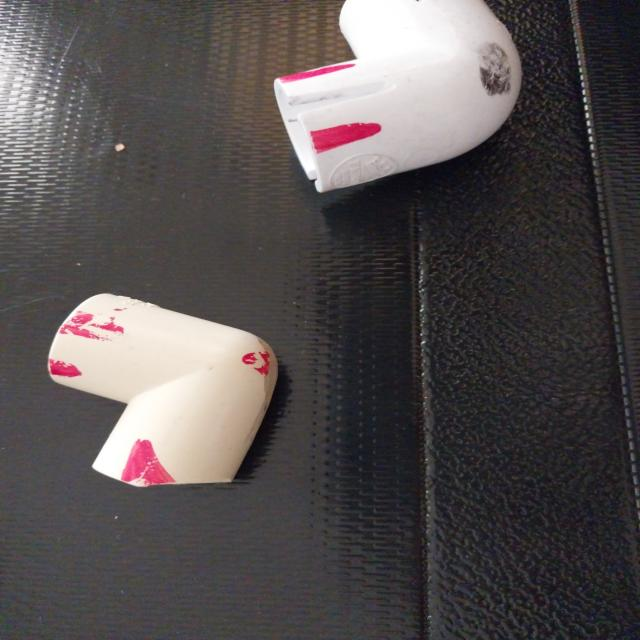Defective: (456, 36, 520, 98), (118, 433, 182, 492), (295, 118, 383, 148), (67, 308, 129, 343), (38, 356, 105, 382), (285, 66, 368, 83), (249, 350, 269, 374)
L Joint: (273, 0, 523, 196), (47, 294, 279, 489)
